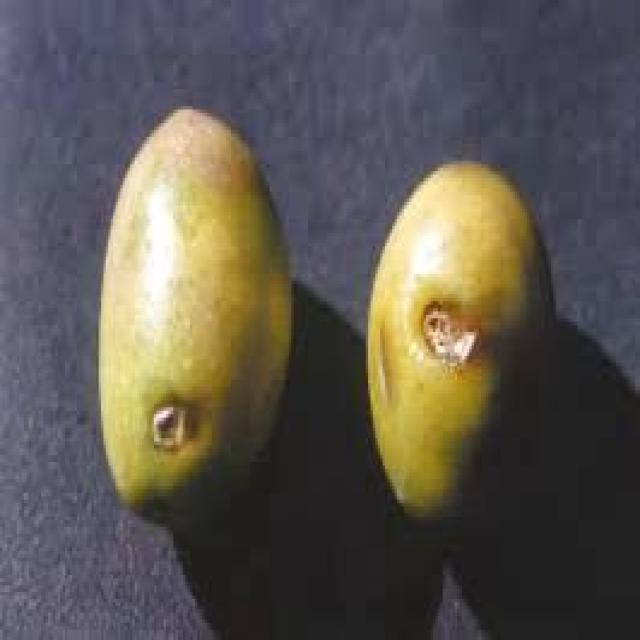Anthracnose: (99, 113, 291, 513), (368, 161, 554, 514)
